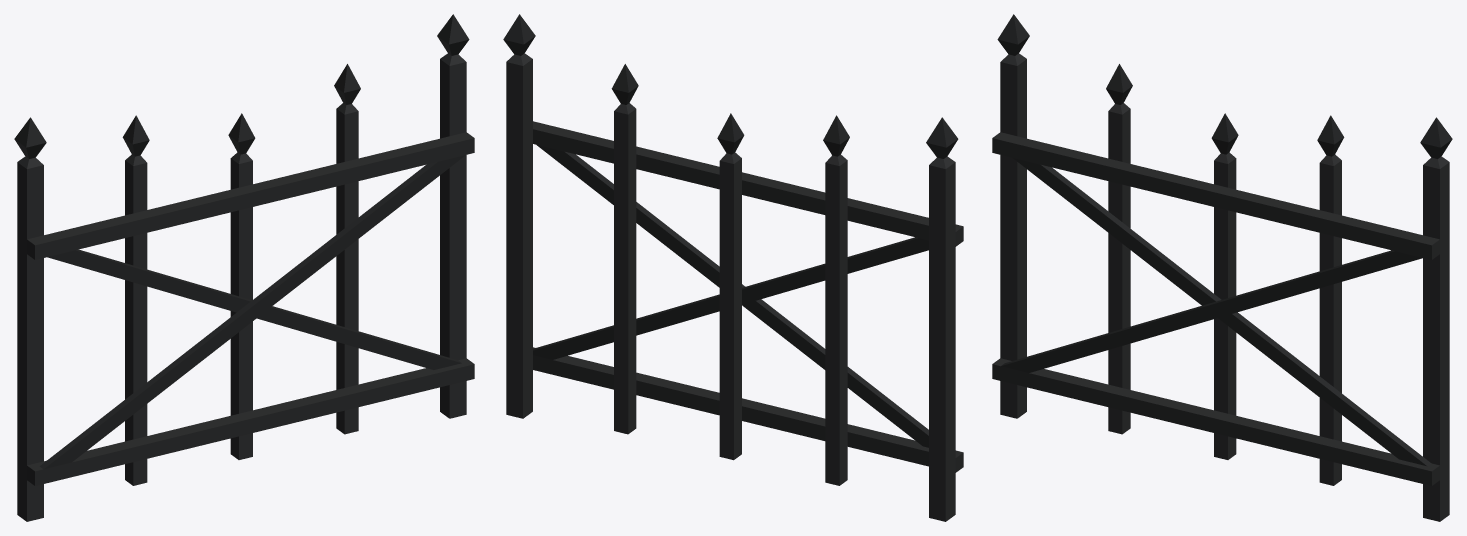
The model's file is Fence 01.fbx.
3 renders of one model, left to right at view 1: azimuth 30°, elevation 25°; view 2: azimuth 150°, elevation 25°; view 3: azimuth 330°, elevation 25°, orthographic.
Parts seen in each view (by area): view 1: Fence_01; view 2: Fence_01; view 3: Fence_01.
Part boxes in pixels (x1,y1,x2,y2): Fence_01: [14, 14, 474, 521]; Fence_01: [503, 14, 963, 521]; Fence_01: [992, 14, 1452, 521].
Bounding box in the file's own units: 252 × 217 × 18.65.
